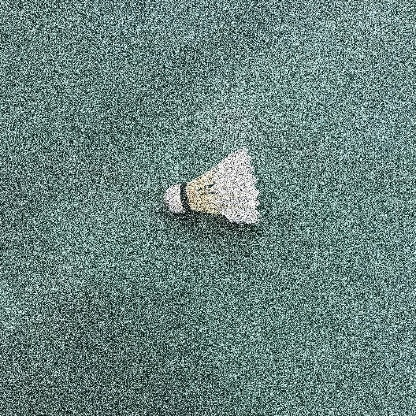ball_single: (164, 148, 261, 225)
